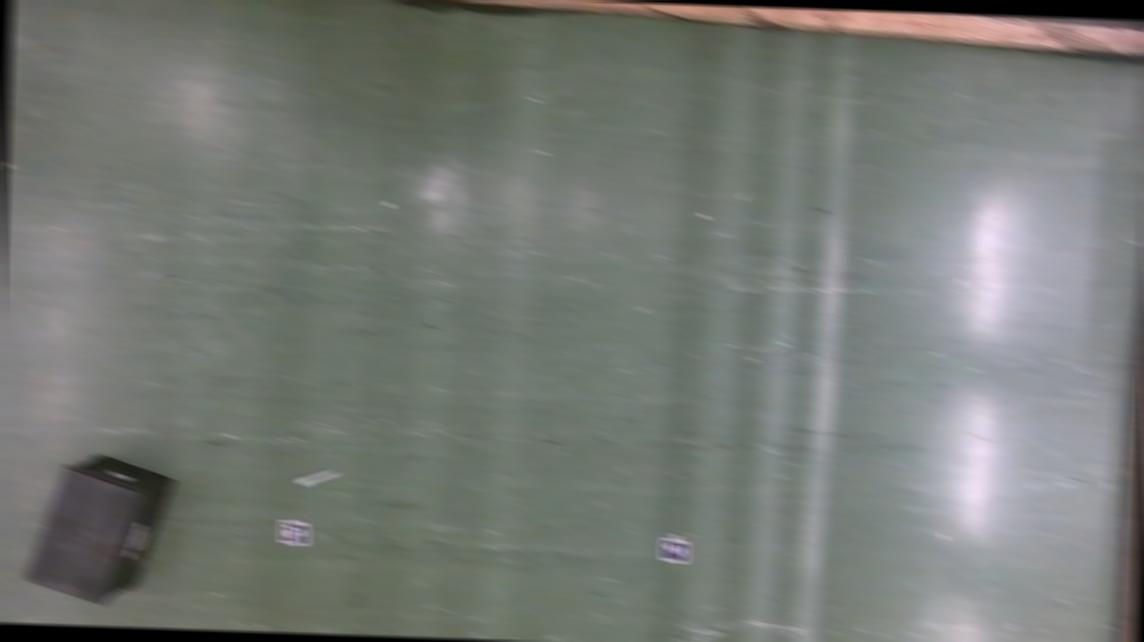probes: (298, 467, 338, 486)
rako: (22, 450, 175, 604)
